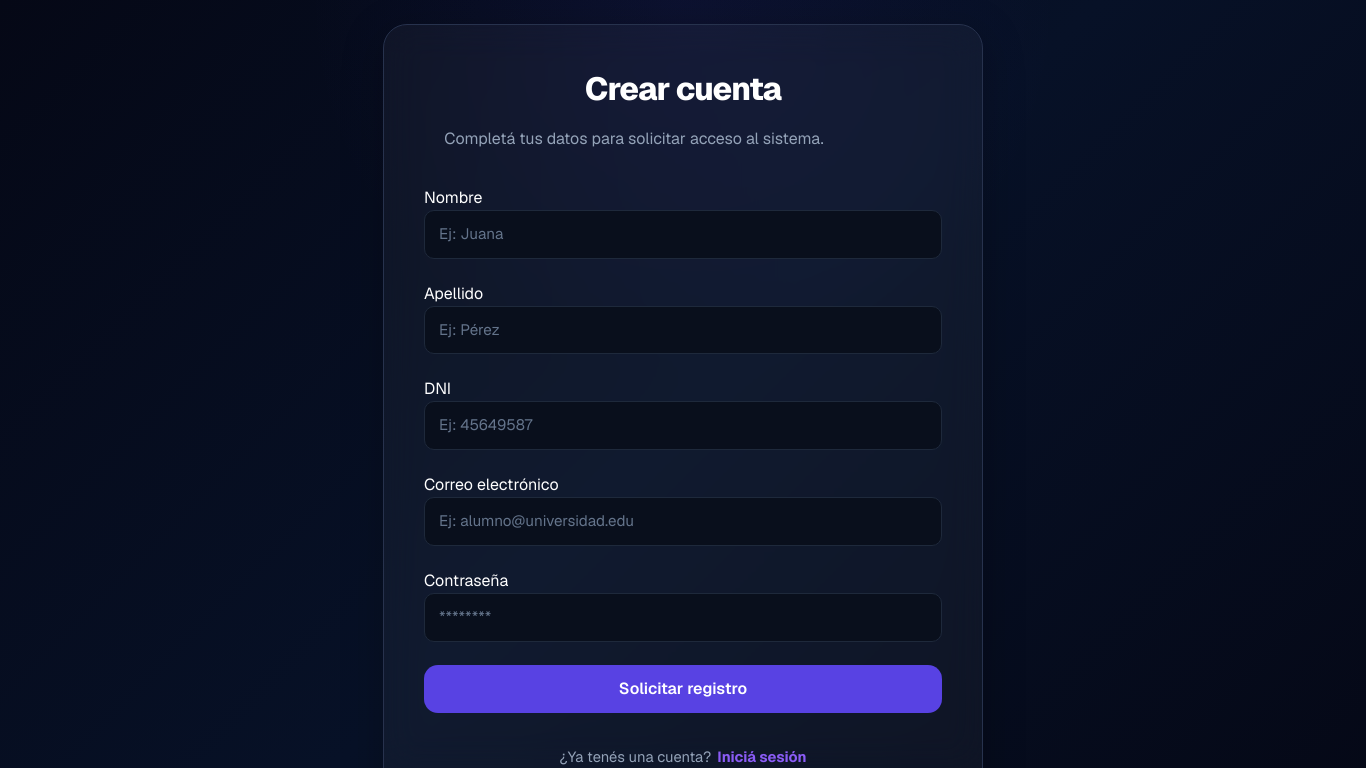
Test: Pagina registro › muestra error cuando backend devuelve mensaje
Type "Juan" into the field with placeholder "Ej: Juana" at [683, 234], box [424, 210, 942, 259]
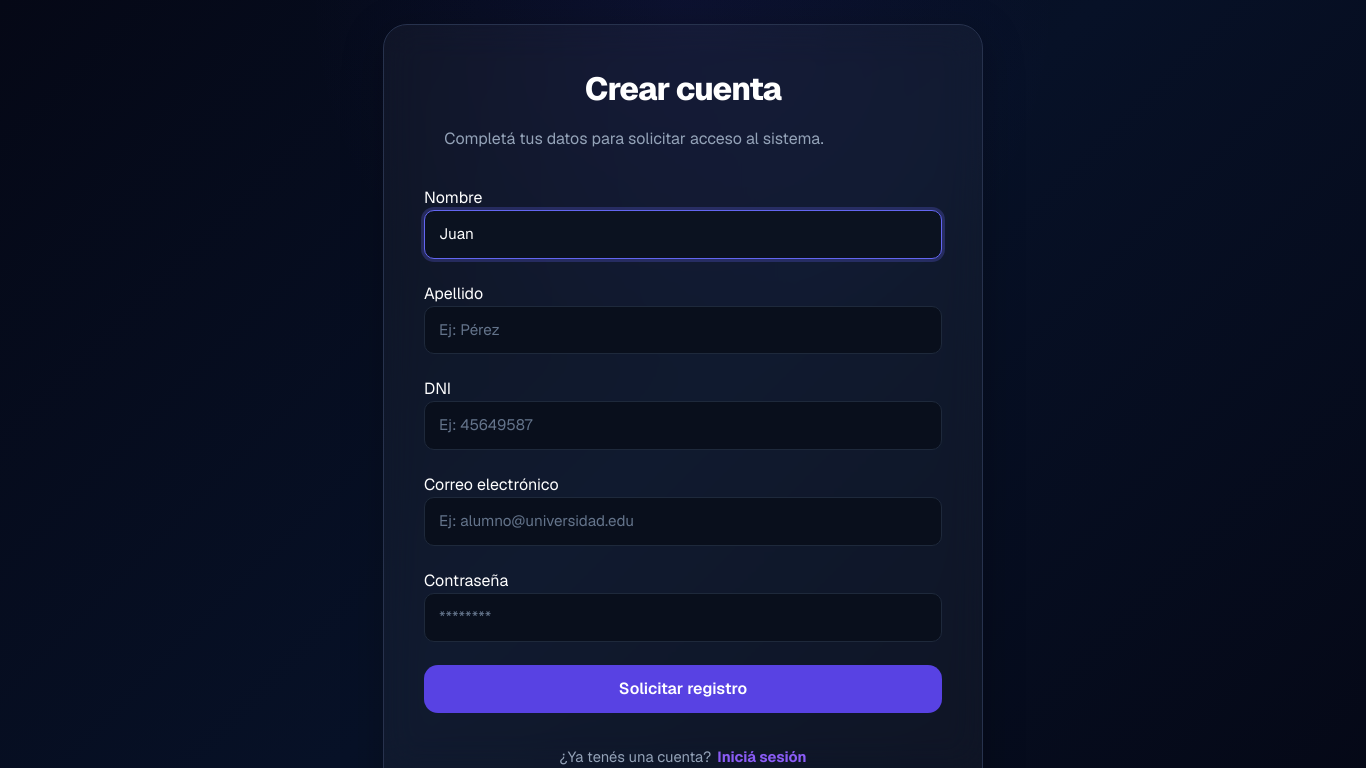
Type "Perez" into the field with placeholder "Ej: Pérez" at [683, 330], box [424, 306, 942, 354]
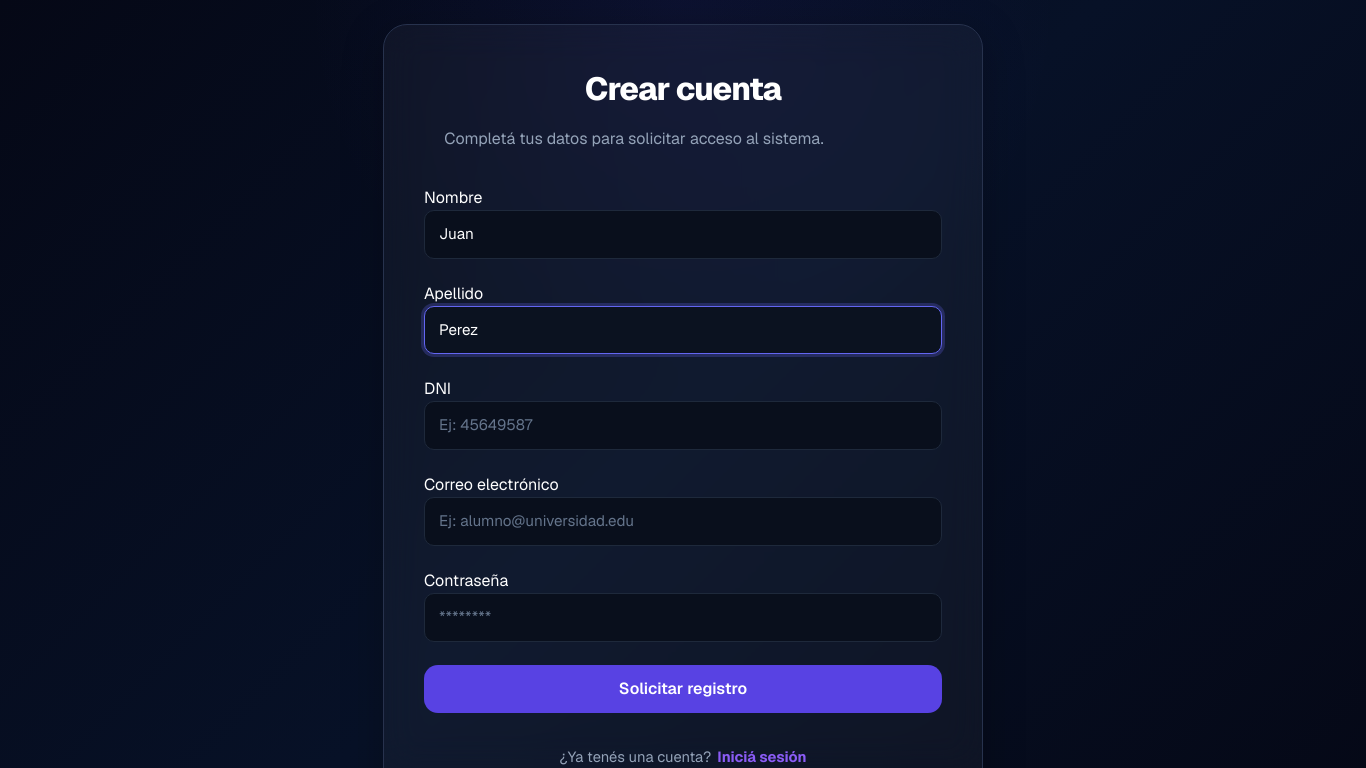
Type "11111111" into the number field with placeholder "Ej: 45649587" at [683, 426], box [424, 401, 942, 450]
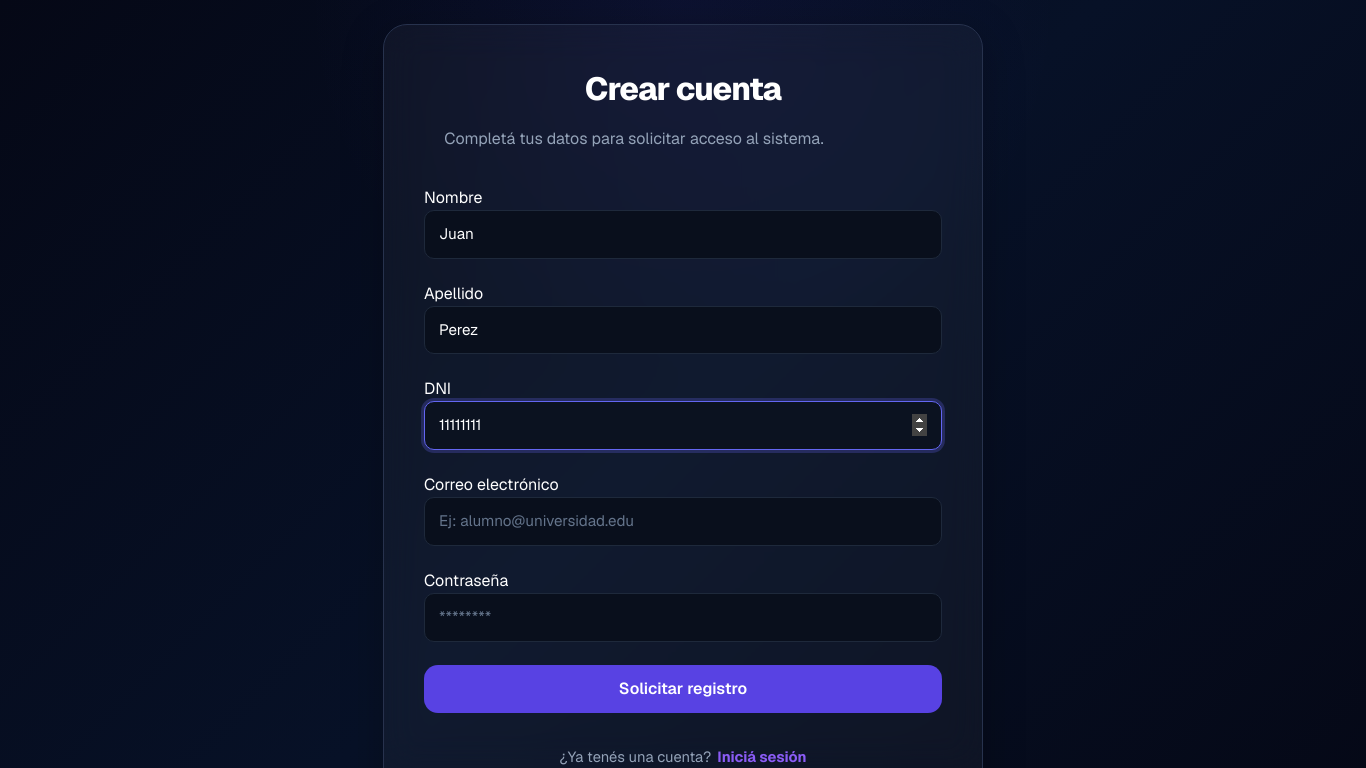
Type "juan@gmail.com" into the field with placeholder "Ej: alumno@universidad.edu" at [683, 522], box [424, 497, 942, 546]
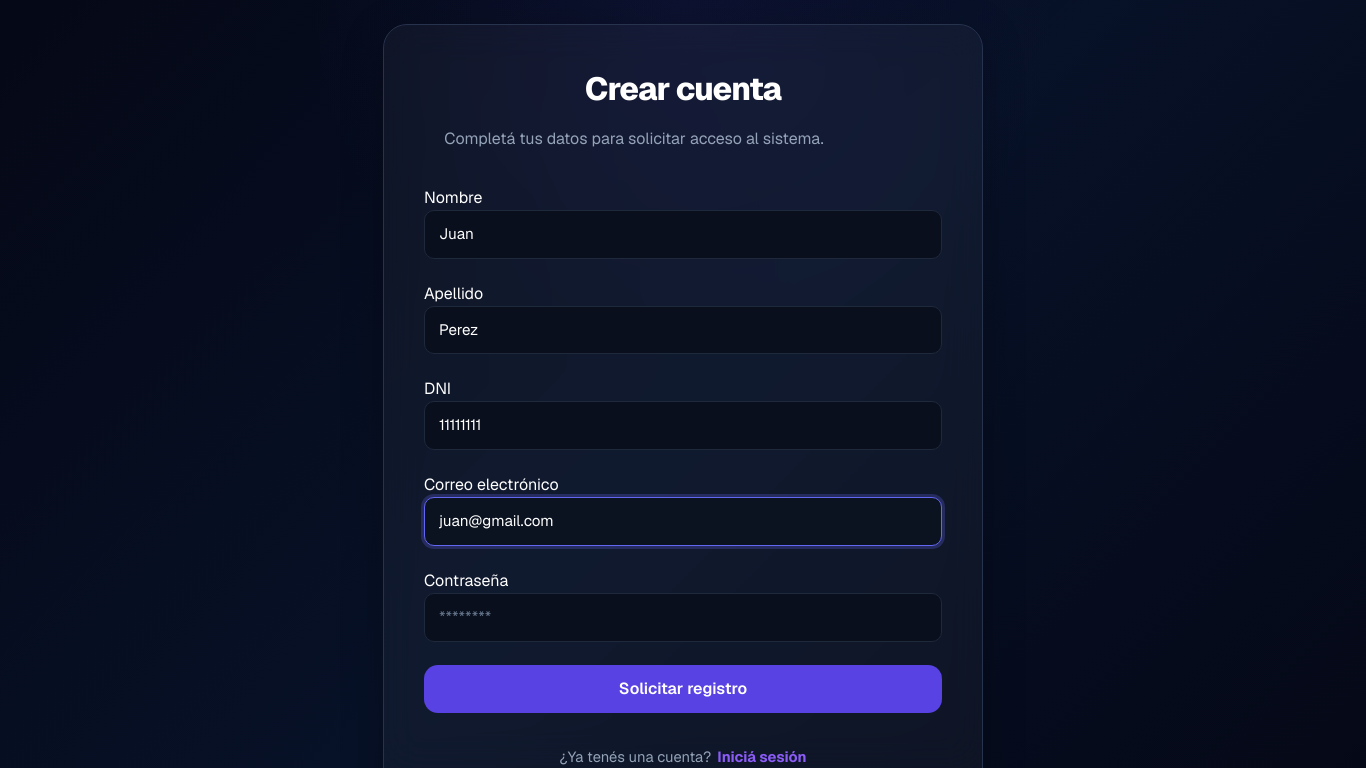
Type "1234" into the password field with placeholder "********" at [683, 617], box [424, 593, 942, 642]
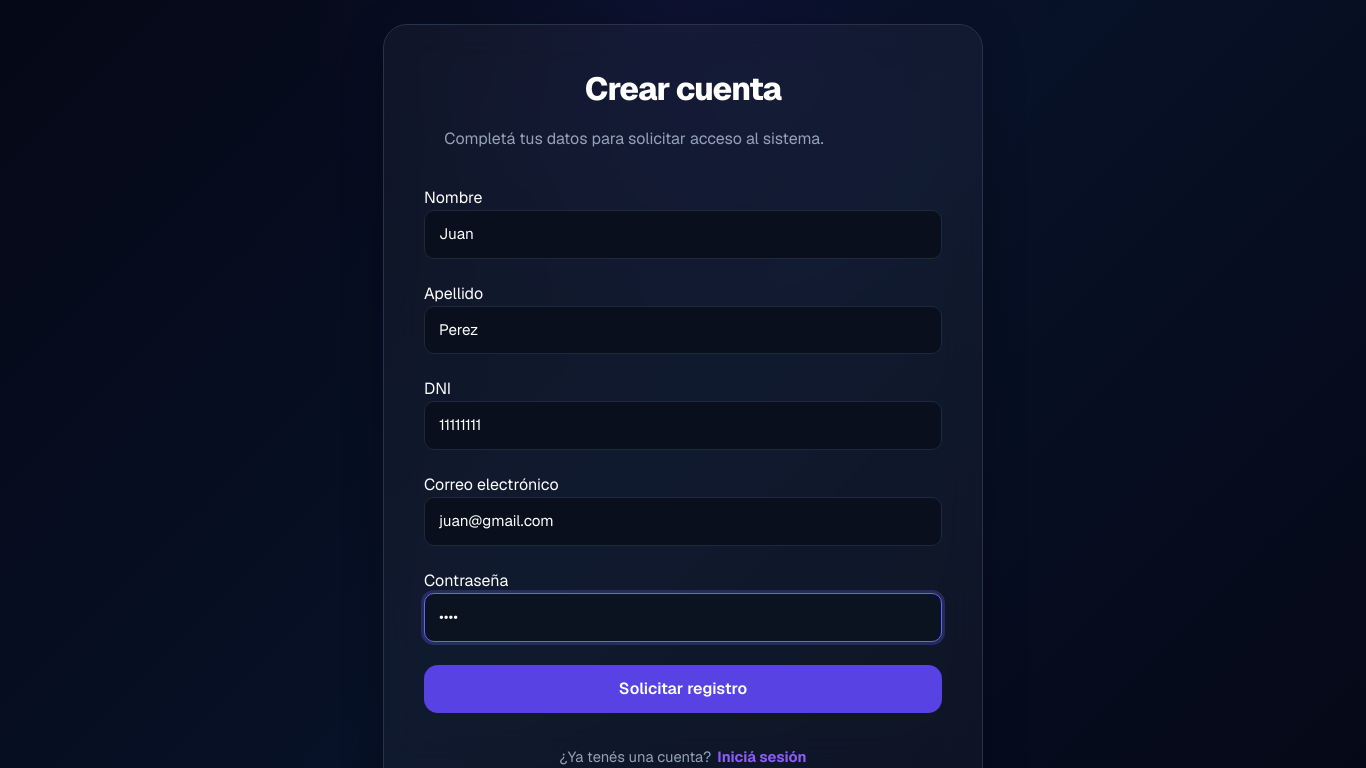
Click the button "Solicitar registro" at [683, 689], box [424, 665, 942, 713]
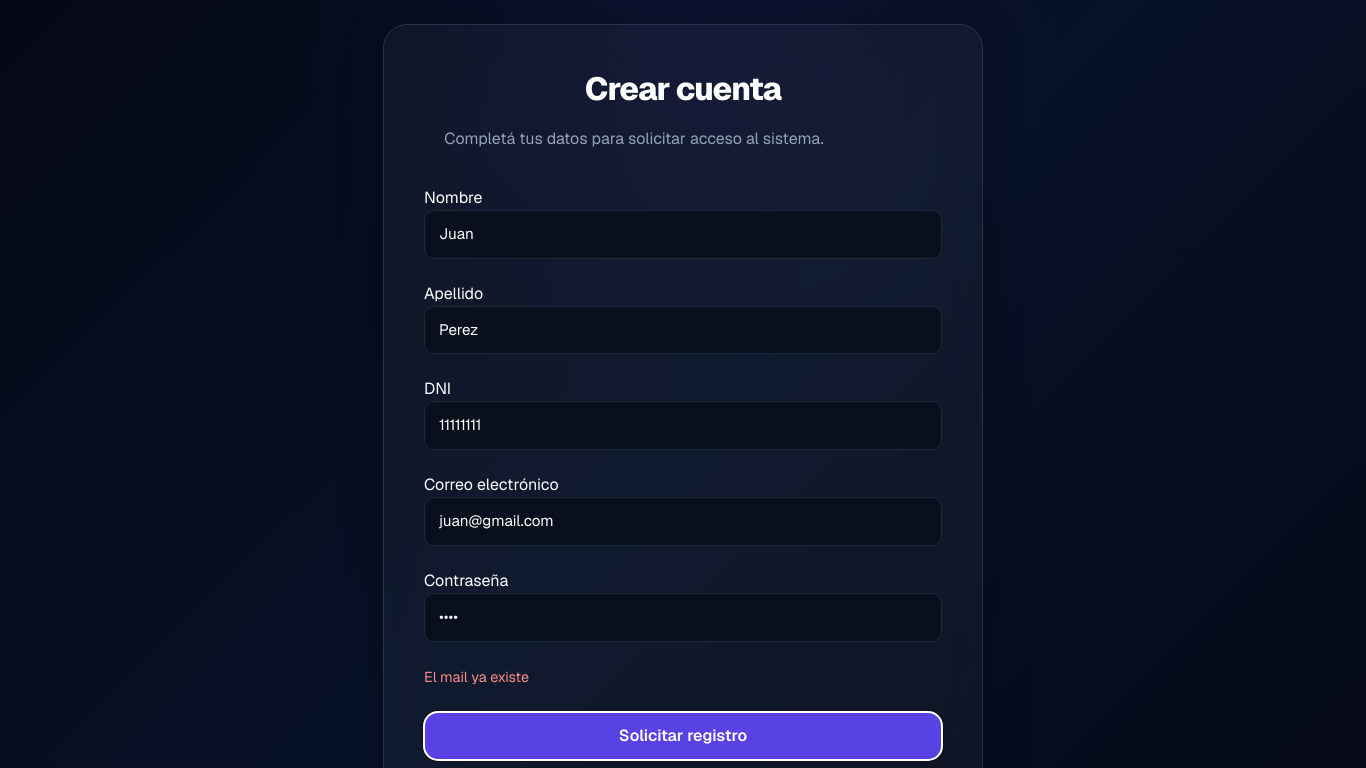
Now the text "El mail ya existe" is shown, box [424, 668, 529, 686]
